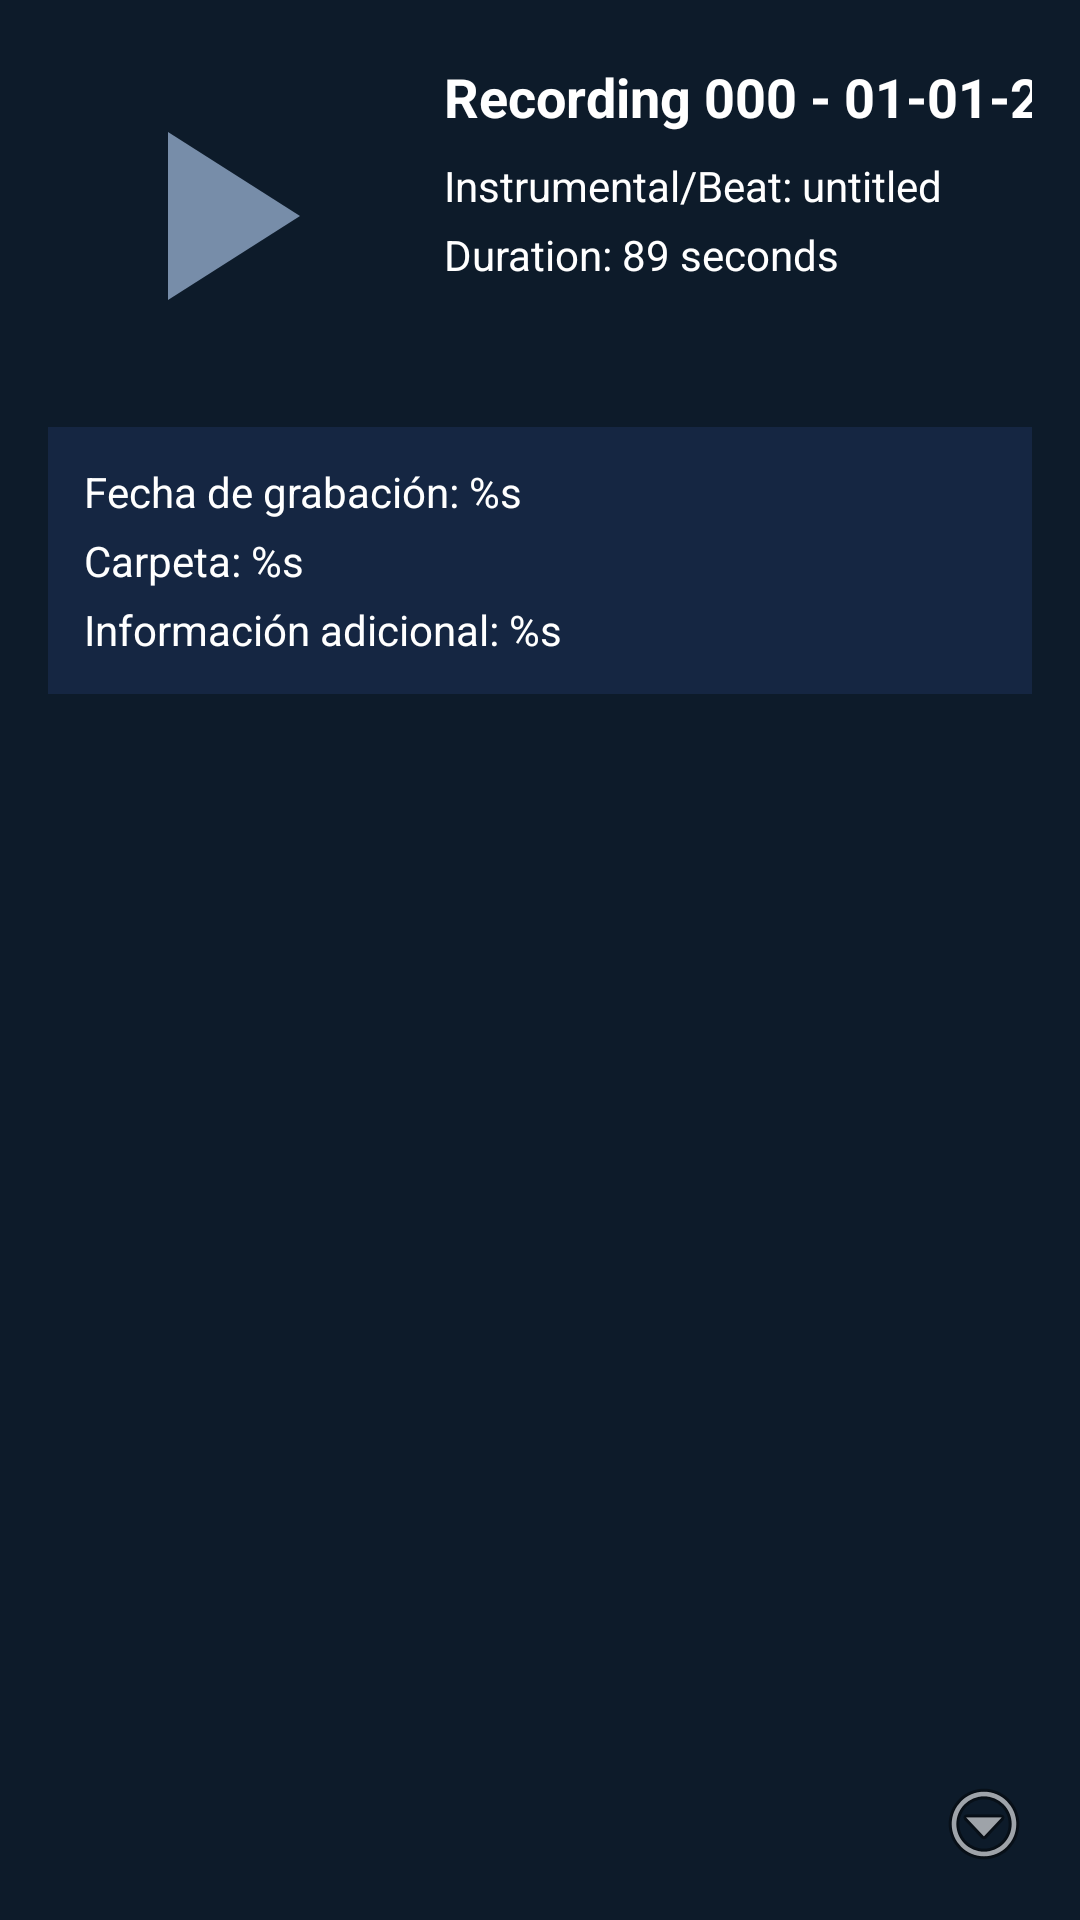

Where to tap for icons on this 1080*1920 app screen, as (x=x, y=y):
Reproducir/Pausar: (x=234, y=216)
Ver detalles: (x=984, y=1824)
